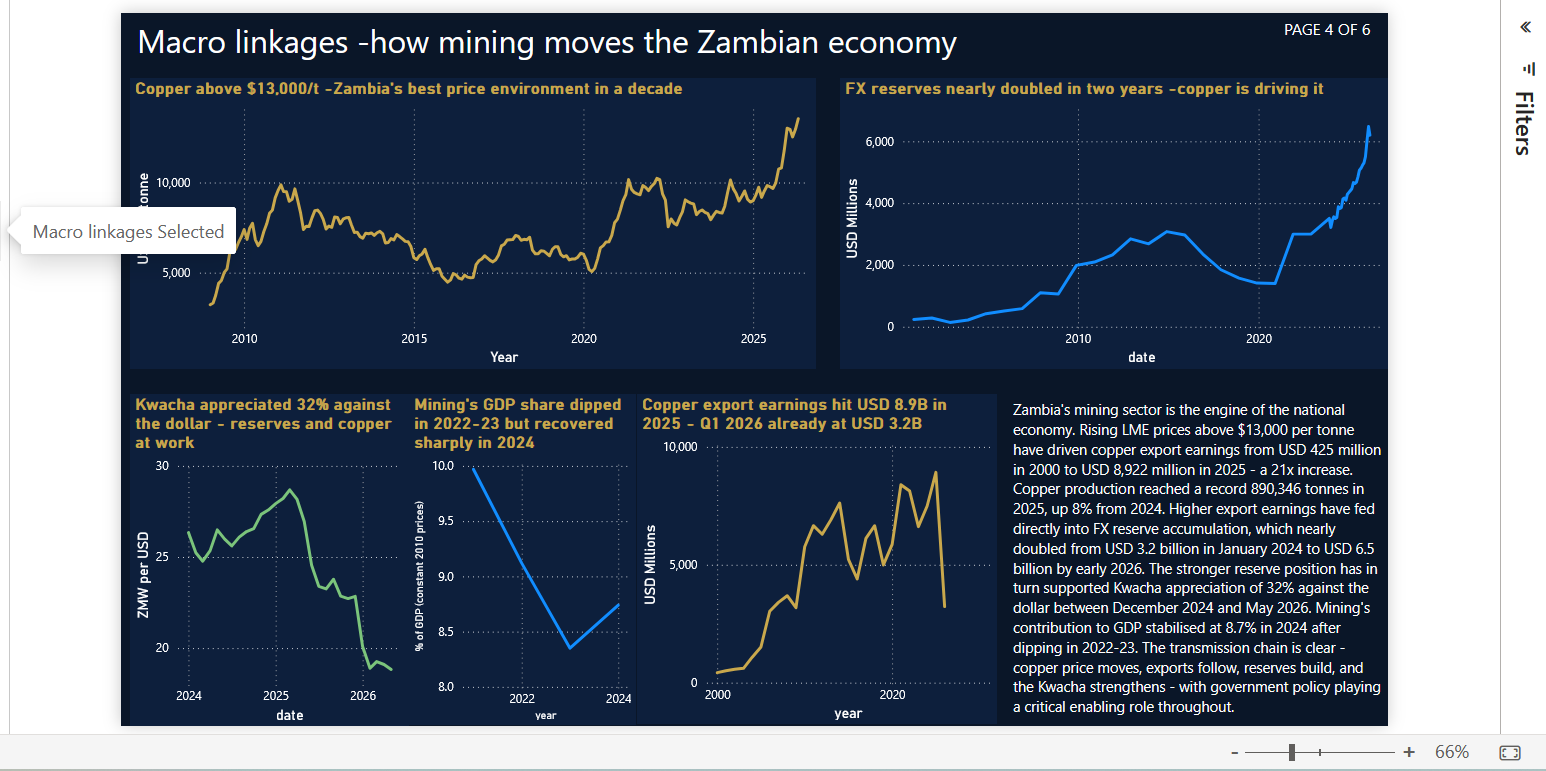

The page's visual inventory and layout, read from the dashboard file:
{"tool":"powerbi","page":{"name":"Macro linkages","canvas":[1280,720],"ordinal":3},"visuals":[{"type":"textbox","box":[10.6,0,991.8,65.1],"z":0},{"type":"textbox","box":[1169,0,110.5,65.1],"z":1000},{"type":"lineChart","title":"Copper above $13,000/t -Zambia''s best price environment in a decade","fields":{"Category":["7_lme_copper_price_monthly.date"],"Y":["Sum(7_lme_copper_price_monthly.lme_copper_usd_per_tonne)"]},"box":[9.8,65.5,693,294.9],"z":2000},{"type":"lineChart","title":"FX reserves nearly doubled in two years -copper is driving it","fields":{"Category":["9_fx_reserves_monthly.date"],"Y":["Sum(9_fx_reserves_monthly.fx_reserves_usd_millions)"]},"box":[725.7,65.5,553.7,294.9],"z":3000},{"type":"lineChart","title":"Kwacha appreciated 32% against the dollar - reserves and copper at work","fields":{"Category":["10_zmw_usd_monthly.date"],"Y":["Sum(10_zmw_usd_monthly.zmw_per_usd)"]},"box":[9.8,385,281.8,335.8],"z":4000},{"type":"lineChart","title":"Copper export earnings hit USD 8.9B in 2025 - Q1 2026 already at USD 3.2B","fields":{"Y":["Sum(8_copper_exports_quarterly.copper_exports_usd_millions)"],"Category":["8_copper_exports_quarterly.year"]},"box":[521.1,385.2,364,333.8],"z":5000},{"type":"textbox","box":[895.7,385.2,383.7,333.8],"z":6000},{"type":"lineChart","title":"Mining''s GDP share dipped in 2022-23 but recovered sharply in 2024","fields":{"Y":["Sum(12b_mining_pct_gdp.mining_pct_of_gdp)"],"Category":["12b_mining_pct_gdp.year"]},"box":[291.6,385,229.4,334.2],"z":7000}]}

Visuals, with their boxes on the page's 1280x720 design canvas (x1, y1, x2, y2). These are canvas units, not pixel positions in the 1546x771 screenshot, which may show the page scaled, cropped or inside an application window:
textbox: left=11, top=0, right=1002, bottom=65
textbox: left=1169, top=0, right=1280, bottom=65
"Copper above $13,000/t -Zambia''s best price environment in a decade" lineChart: left=10, top=66, right=703, bottom=360
"FX reserves nearly doubled in two years -copper is driving it" lineChart: left=726, top=66, right=1279, bottom=360
"Kwacha appreciated 32% against the dollar - reserves and copper at work" lineChart: left=10, top=385, right=292, bottom=721
"Copper export earnings hit USD 8.9B in 2025 - Q1 2026 already at USD 3.2B" lineChart: left=521, top=385, right=885, bottom=719
textbox: left=896, top=385, right=1279, bottom=719
"Mining''s GDP share dipped in 2022-23 but recovered sharply in 2024" lineChart: left=292, top=385, right=521, bottom=719
